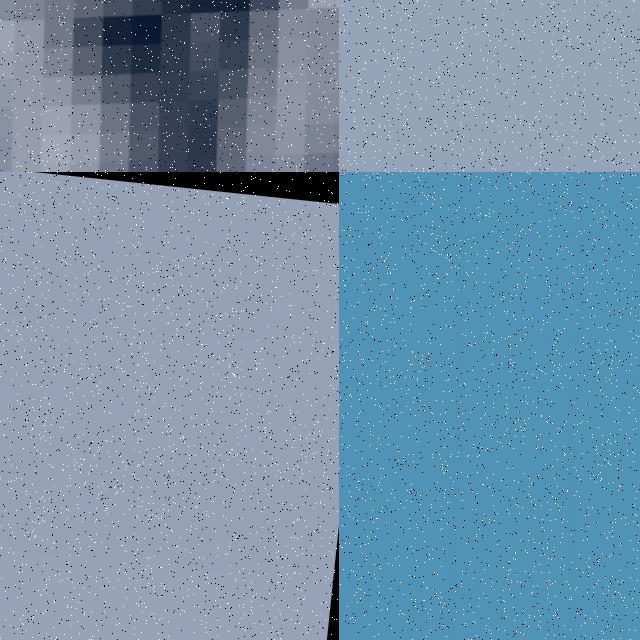0: (0, 0, 339, 172)
drone: (339, 172, 640, 640)
